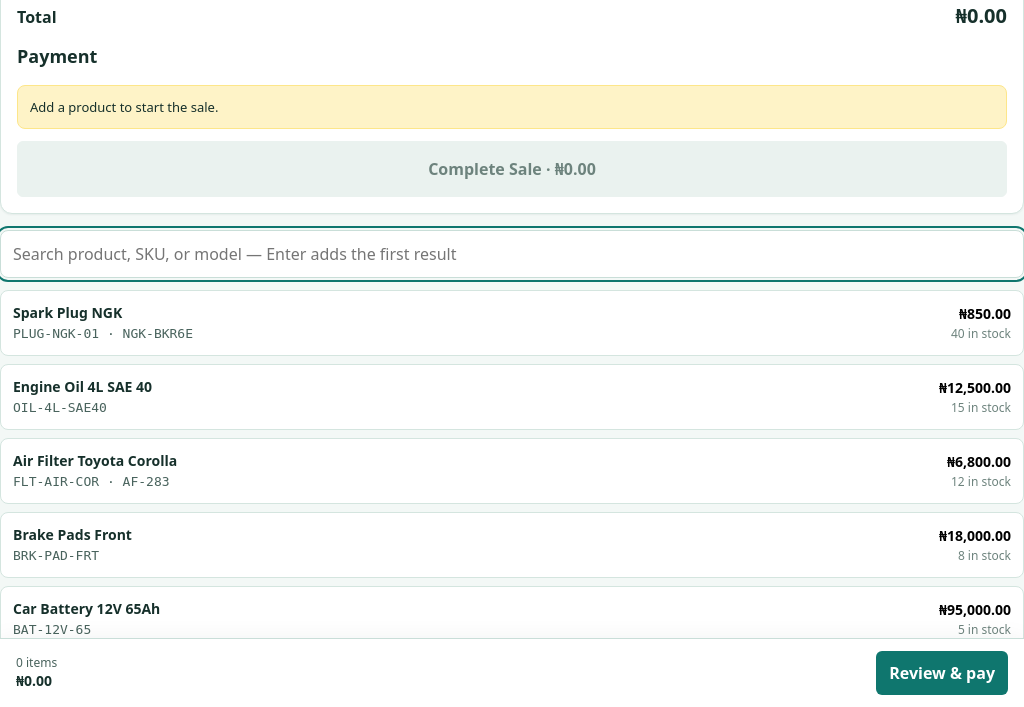
Test: POS journeys › refuses credit for a blocked customer
(page scrolled)
Step 1. Click the button "Spark Plug NGK PLUG-NGK-01 · NGK-BKR6E ₦850.00 40 in stock" → x=68, y=312, box top-left (0, 290), bottom-right (1023, 356)
(page scrolled)
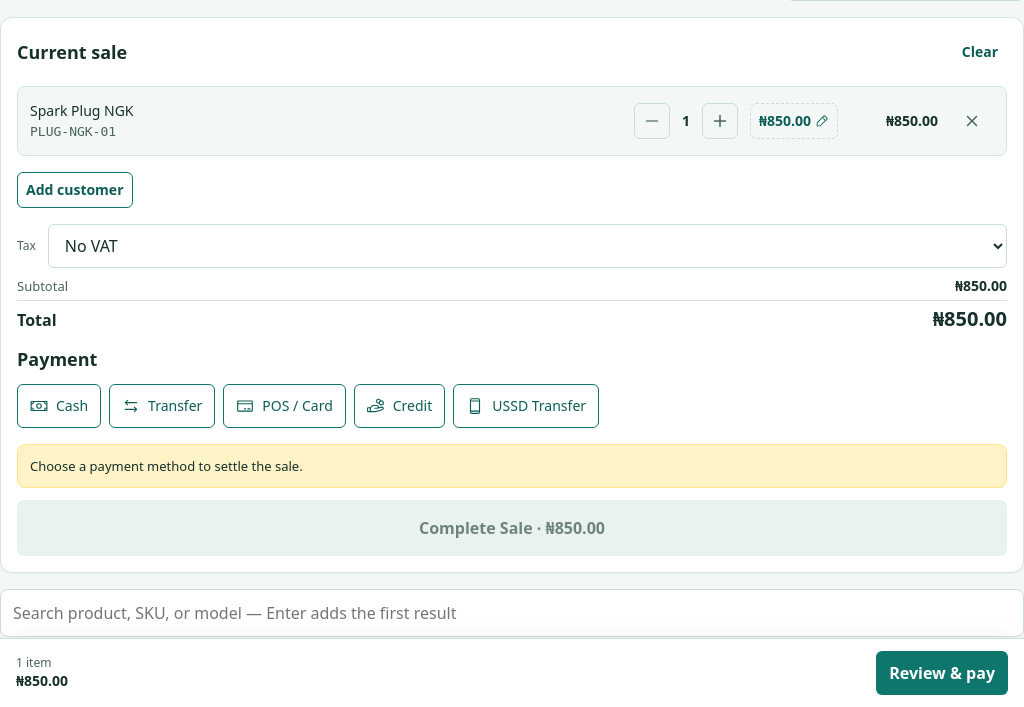
Step 2. Click the button "Add customer" → x=75, y=190, box top-left (17, 172), bottom-right (132, 208)
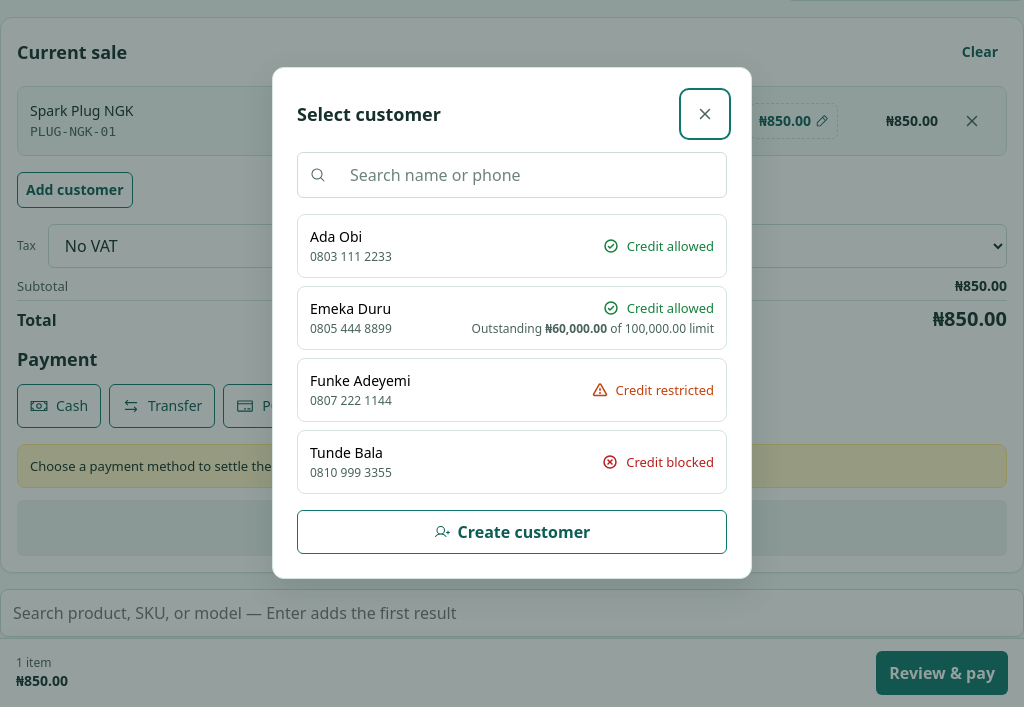
Step 3. Click the button "Tunde Bala 0810 999 3355 Credit blocked" → x=346, y=452, box top-left (297, 430), bottom-right (727, 494)
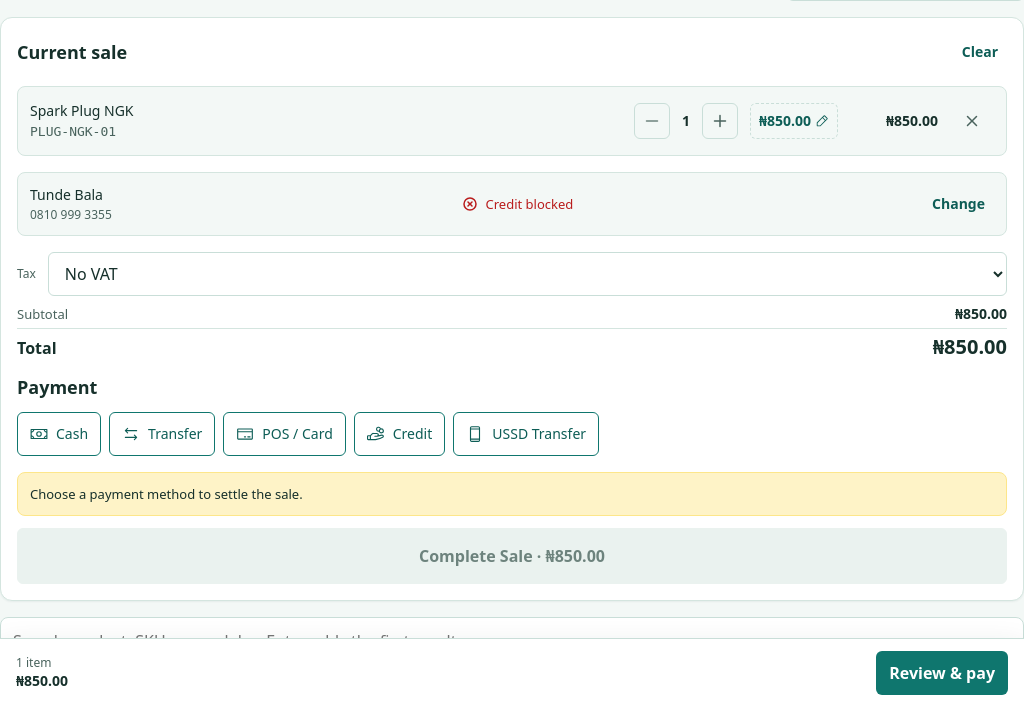
Step 4. Click the button "Credit" → x=400, y=434, box top-left (354, 412), bottom-right (445, 456)
(page scrolled)
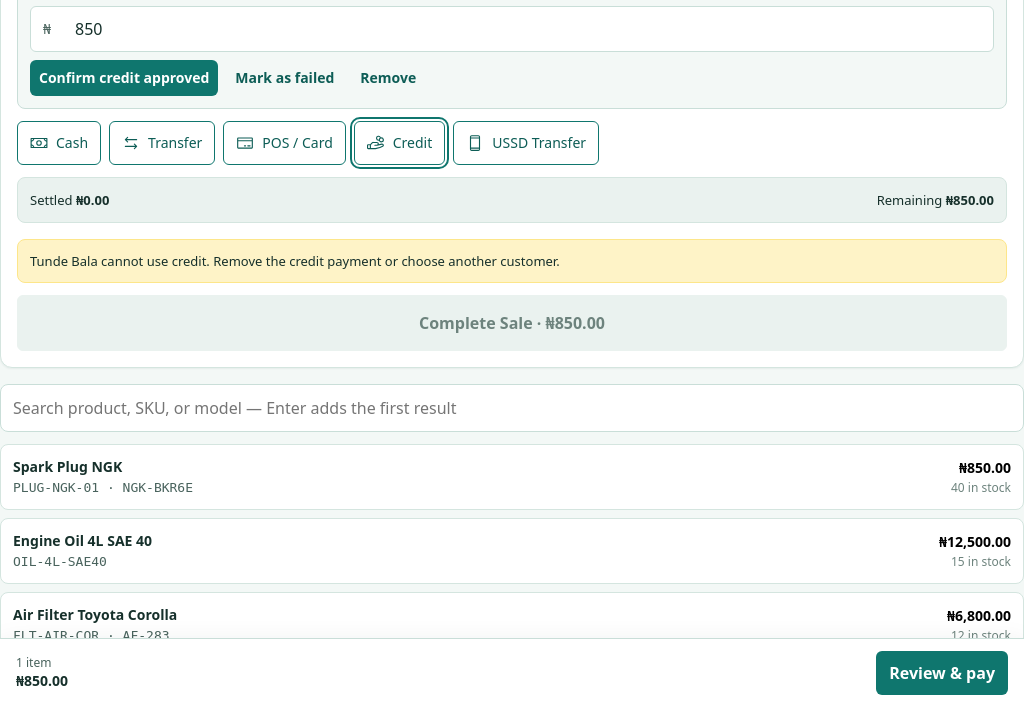
Expected: the button "Complete Sale · ₦850.00" is disabled, top-left (17, 295), bottom-right (1007, 351)
Now the text "Tunde Bala cannot use credit" is shown, box top-left (30, 252), bottom-right (560, 270)
